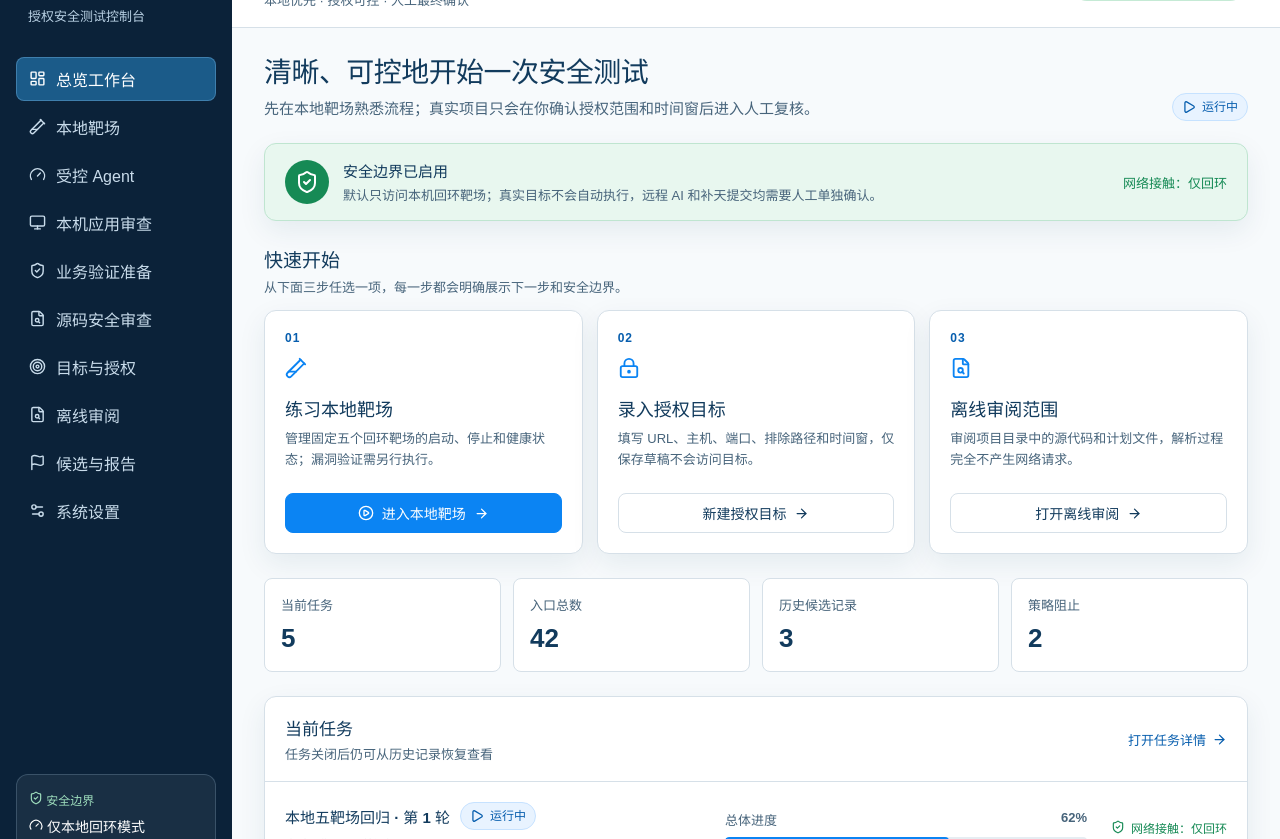
Scenario: dashboard pages › shows local-only safety notice and five lab names
Click the button "本地靶场": [116, 127] box [16,105,216,149]
(page scrolled)
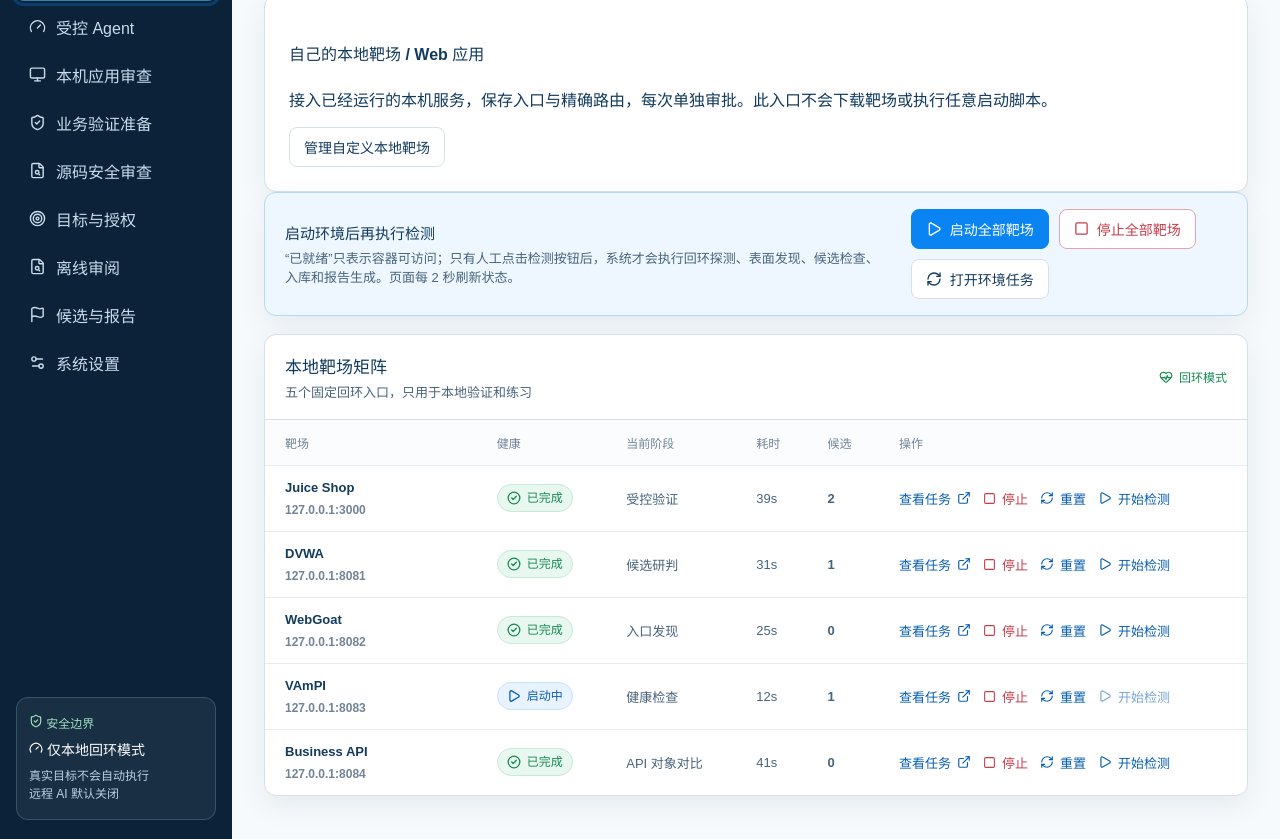
Expected: the text "Juice Shop" is shown, [285,480,354,495]
Expected: the text "DVWA" is shown, [285,546,324,561]
Expected: the text "WebGoat" is shown, [285,612,342,627]
